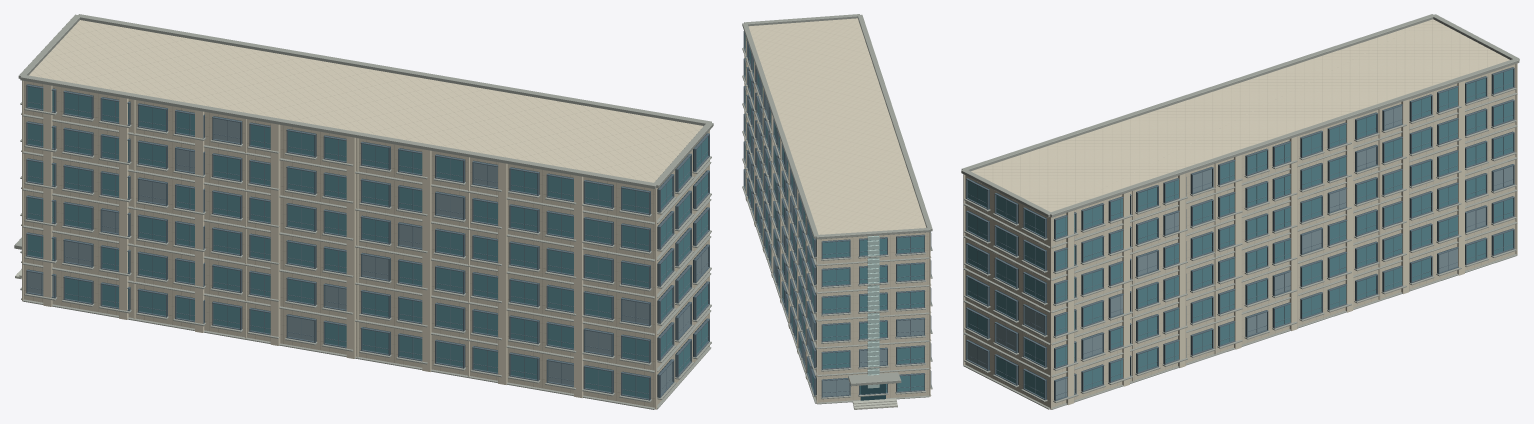
The model's file is vision.glb.
3 views of the same model, side by side, from view 1: azimuth 30°, elevation 25°; view 2: azimuth 150°, elevation 25°; view 3: azimuth 270°, elevation 25° (orthographic). The views are drawn at different scales.
Visible parts, largest first — view 1: vision_body_e8e1cc, vision_glass_659aa4, vision_stone_a9aea6, vision, vision_stone_e8e1cc, vision_glass_90a8b0; view 2: vision_body_e8e1cc, vision, vision_stone_a9aea6, vision_glass_659aa4, vision_stone_e8e1cc, vision_glass_bad2cd, vision_glass_90a8b0, vision_stone_c9ccc0, vision_glass_355b64; view 3: vision_body_e8e1cc, vision_glass_659aa4, vision, vision_stone_a9aea6, vision_stone_e8e1cc, vision_glass_90a8b0.
Boxes of the visible parts, left/top/right/bottom form: vision_body_e8e1cc: left=24, top=20, right=708, bottom=407; vision_glass_659aa4: left=28, top=86, right=707, bottom=398; vision_stone_a9aea6: left=14, top=14, right=713, bottom=409; vision: left=26, top=84, right=709, bottom=400; vision_stone_e8e1cc: left=22, top=80, right=709, bottom=409; vision_glass_90a8b0: left=28, top=118, right=707, bottom=393; vision_body_e8e1cc: left=748, top=18, right=928, bottom=402; vision: left=743, top=31, right=931, bottom=397; vision_stone_a9aea6: left=742, top=14, right=932, bottom=404; vision_glass_659aa4: left=745, top=36, right=924, bottom=393; vision_stone_e8e1cc: left=744, top=36, right=930, bottom=403; vision_glass_bad2cd: left=867, top=235, right=879, bottom=388; vision_glass_90a8b0: left=745, top=98, right=924, bottom=396; vision_stone_c9ccc0: left=852, top=398, right=897, bottom=409; vision_glass_355b64: left=860, top=384, right=885, bottom=400; vision_body_e8e1cc: left=965, top=19, right=1515, bottom=407; vision_glass_659aa4: left=967, top=69, right=1513, bottom=398; vision: left=966, top=67, right=1514, bottom=401; vision_stone_a9aea6: left=961, top=14, right=1519, bottom=409; vision_stone_e8e1cc: left=963, top=63, right=1517, bottom=409; vision_glass_90a8b0: left=967, top=106, right=1513, bottom=399.
Size of the model in its own units: 48.09 by 21.88 by 56.49.
10 materials, 1 textured.
